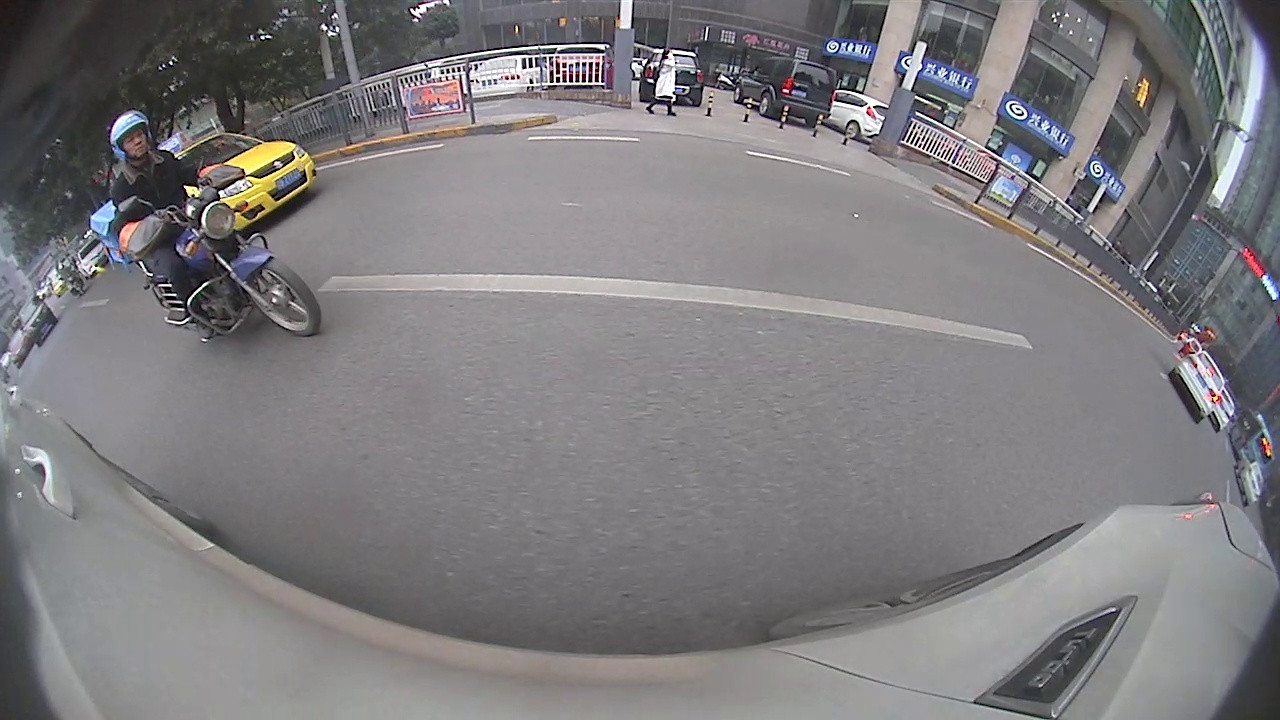car: (153, 128, 317, 232), (731, 54, 840, 129), (1170, 350, 1227, 425), (641, 47, 707, 104), (828, 87, 890, 143)
front: (244, 256, 318, 338)
person: (657, 43, 678, 116)
rear: (758, 89, 776, 119), (845, 119, 861, 142)
rider: (88, 109, 322, 345)
